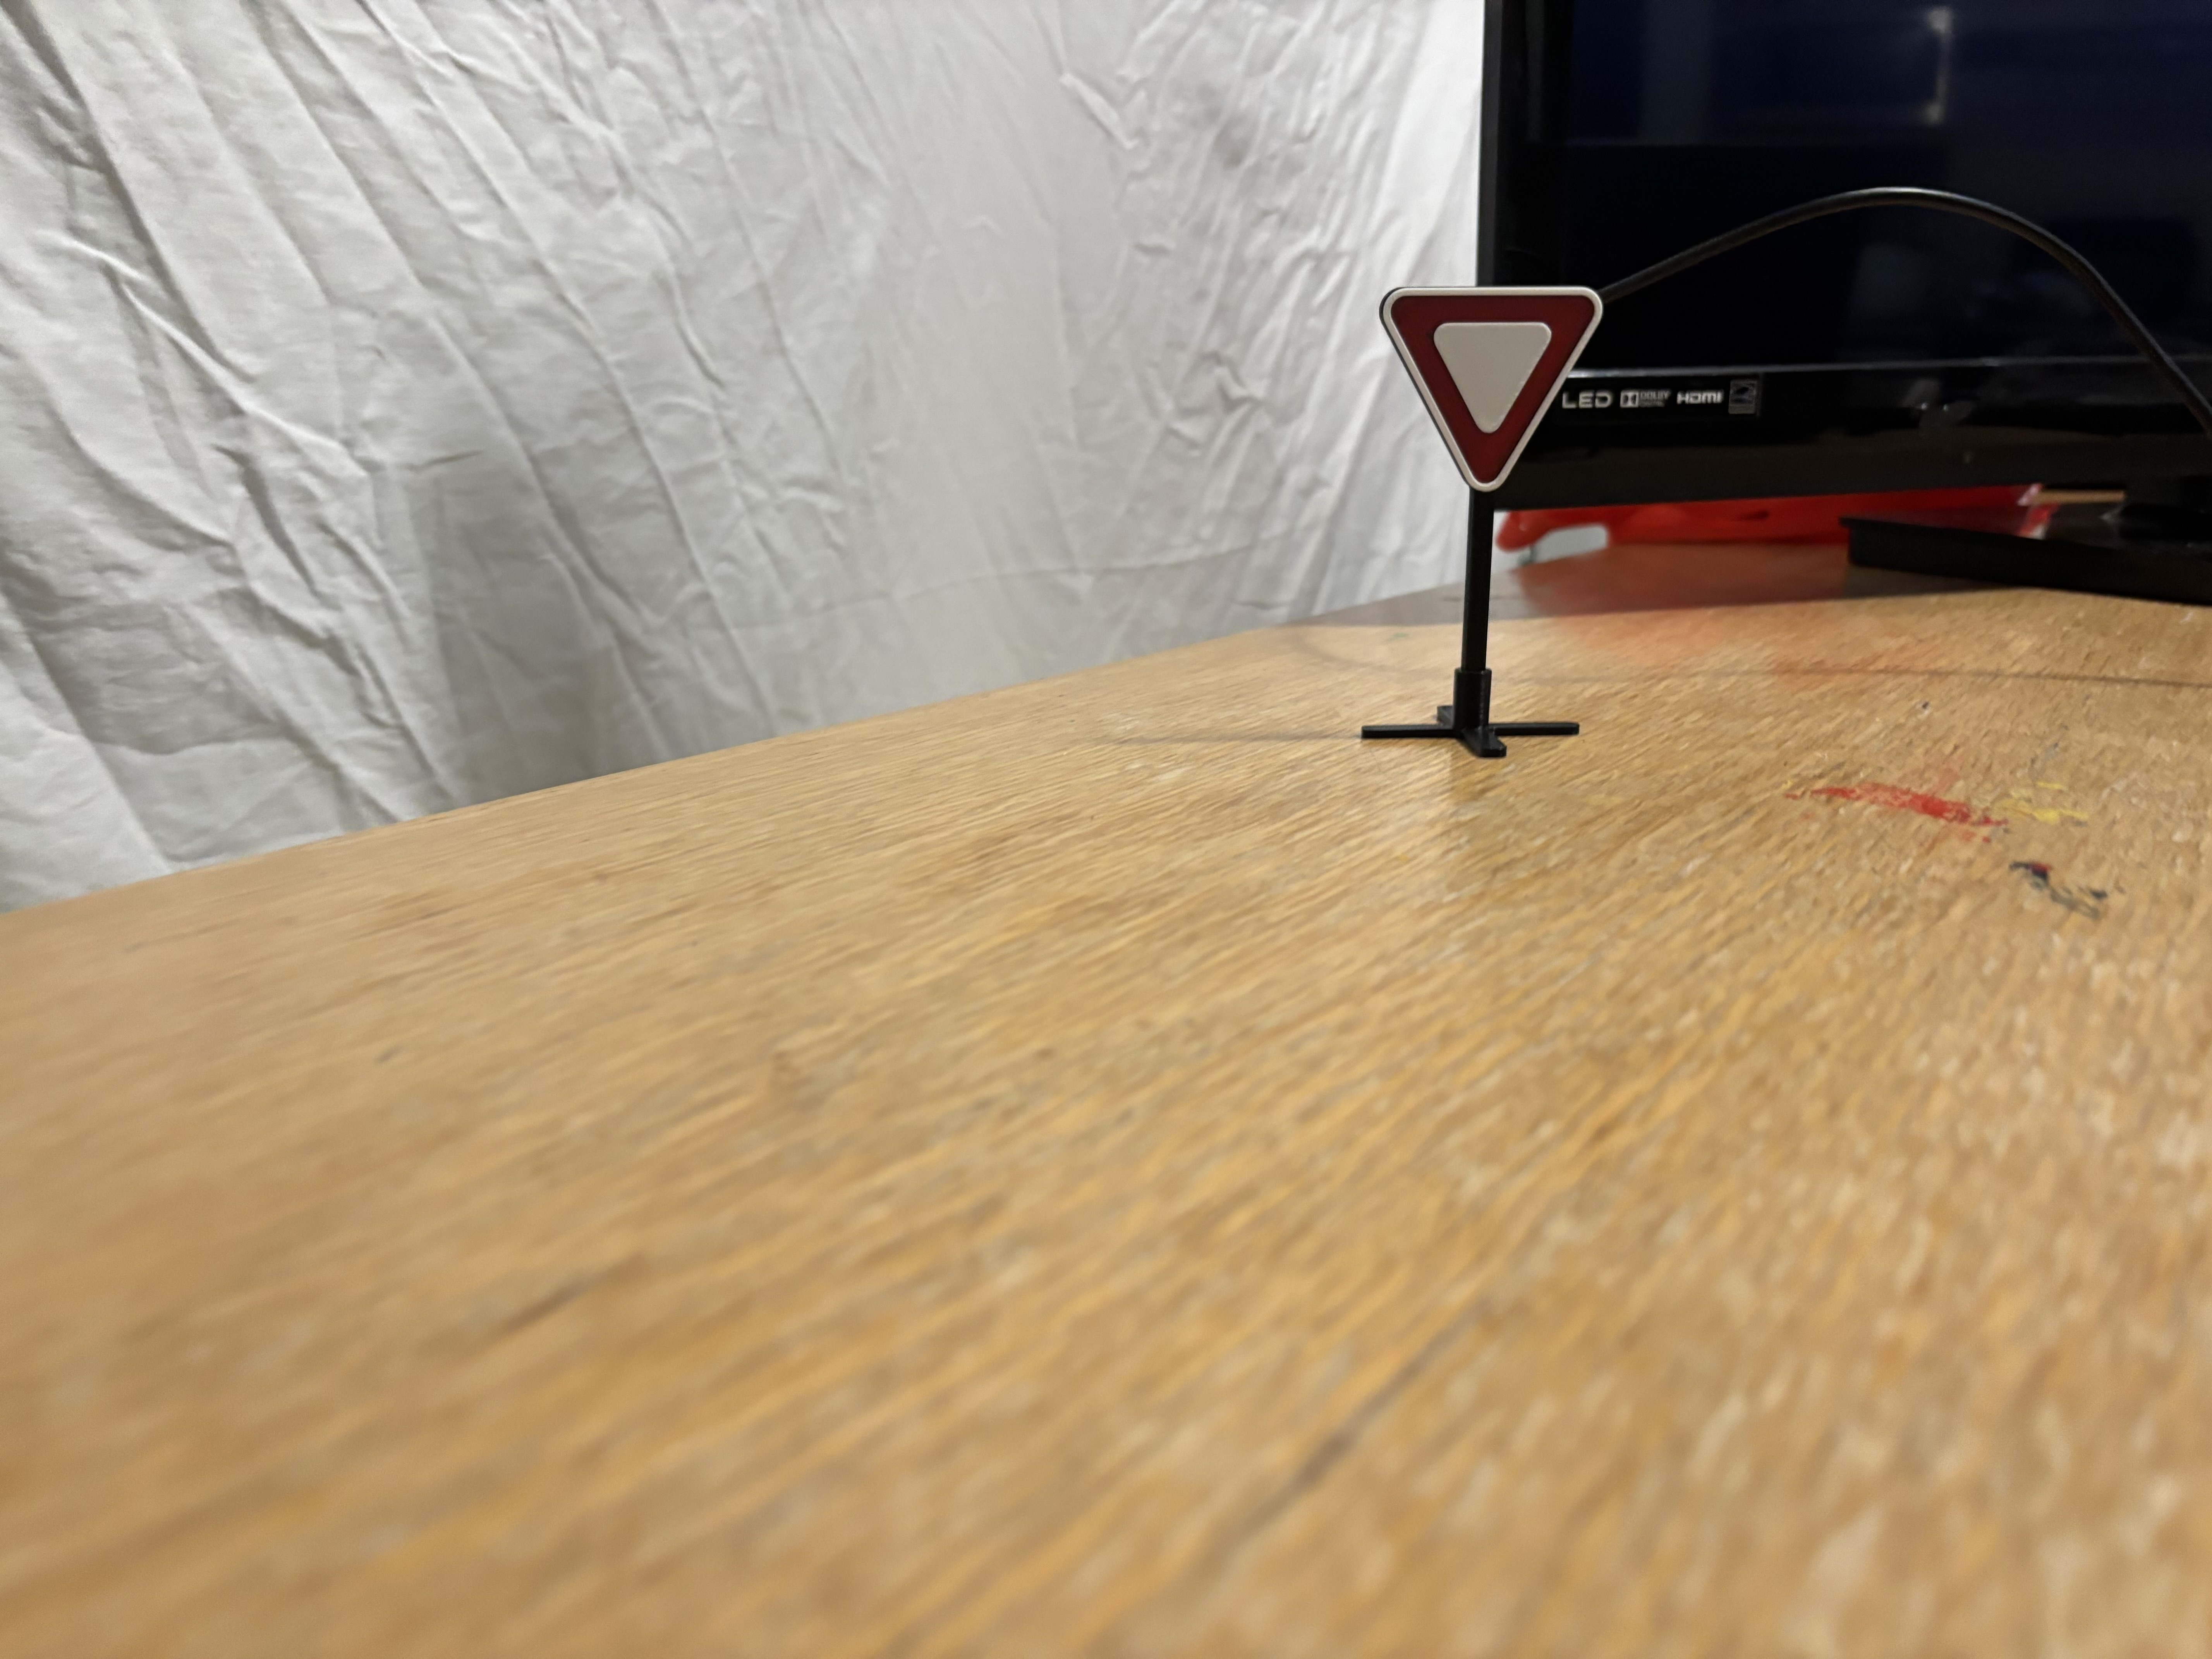sign_yield: (1355, 279, 1608, 490)
